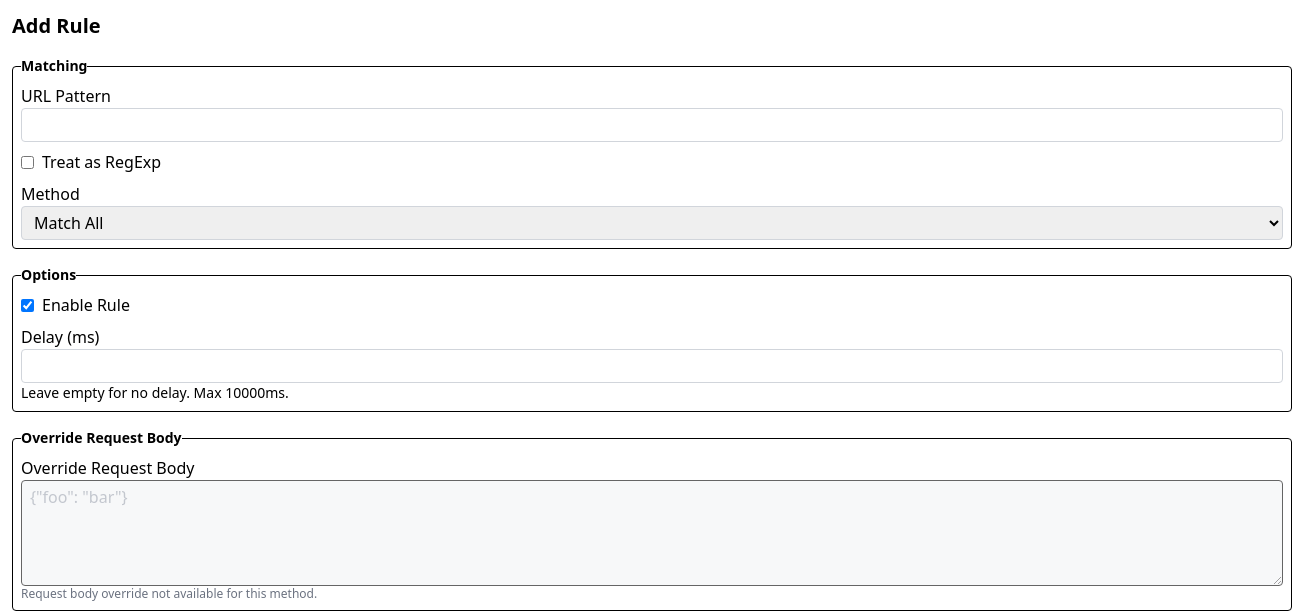
Test: <RuleForm /> › clears request body when method changed to GET
The width and height of the screenshot is (1292, 612).
Select "POST" in the dropdown labelled "Method" at (652, 223), box [21,206,1283,240]
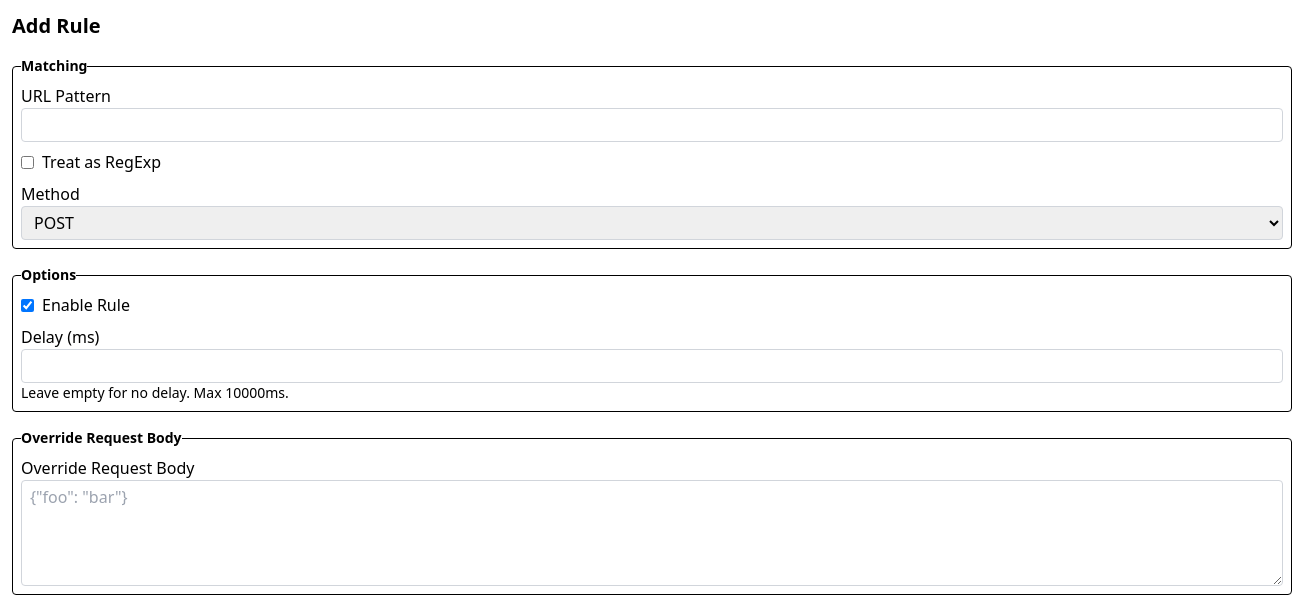
Type "data" into the text box labelled "Override Request Body".
click(652, 533); type("data")  # box [21,480,1283,586]
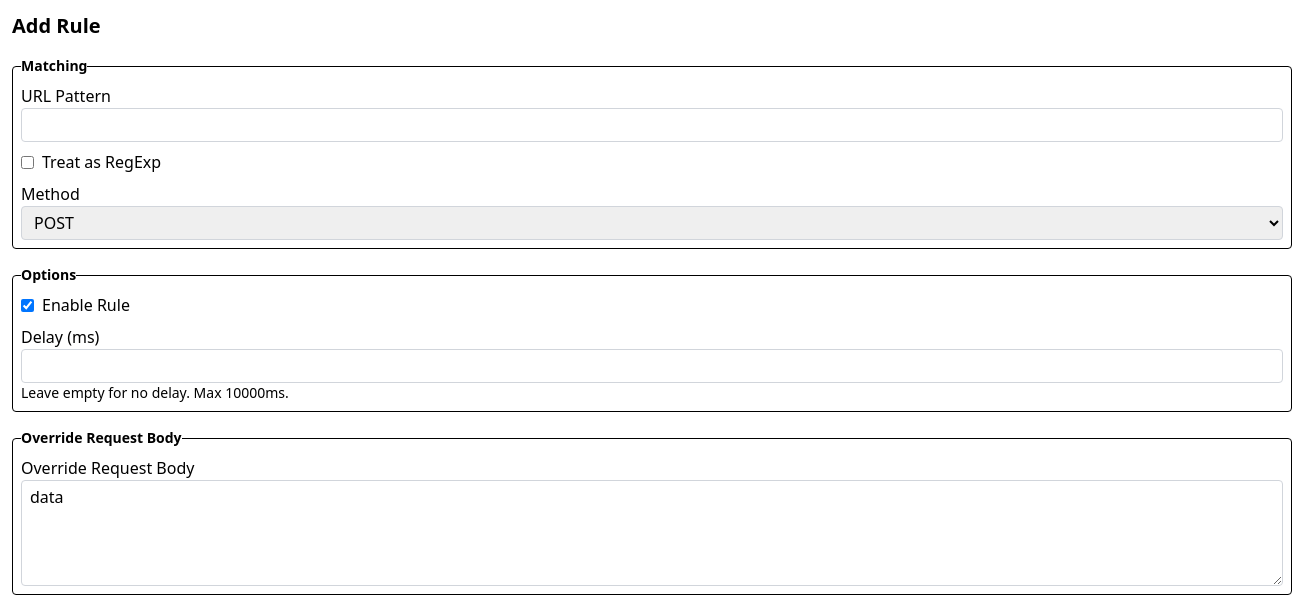
Select "GET" in the dropdown labelled "Method" at (652, 223), box [21,206,1283,240]
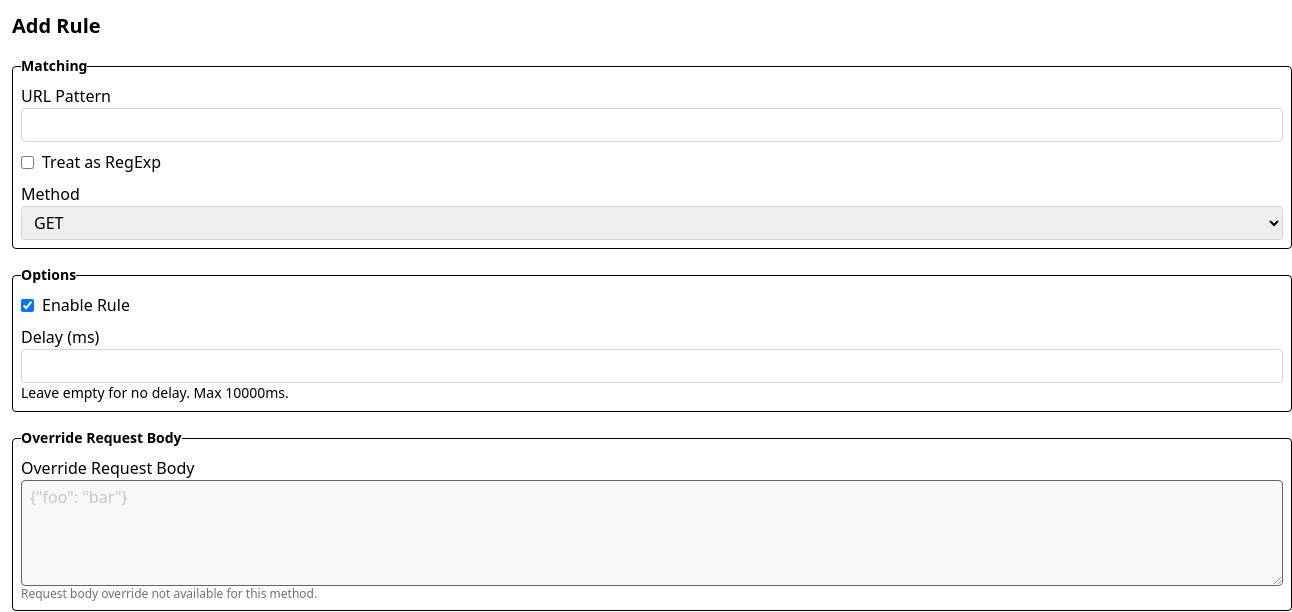
Check: the text box labelled "Override Request Body" is empty, box [21,480,1283,586]
Check: the text box labelled "Override Request Body" is disabled, box [21,480,1283,586]
